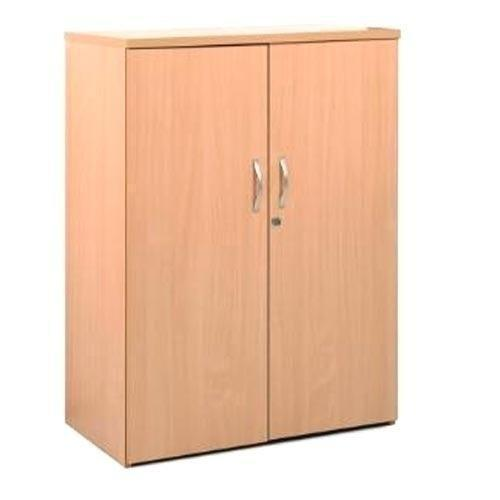Armario: (58, 23, 401, 466)
